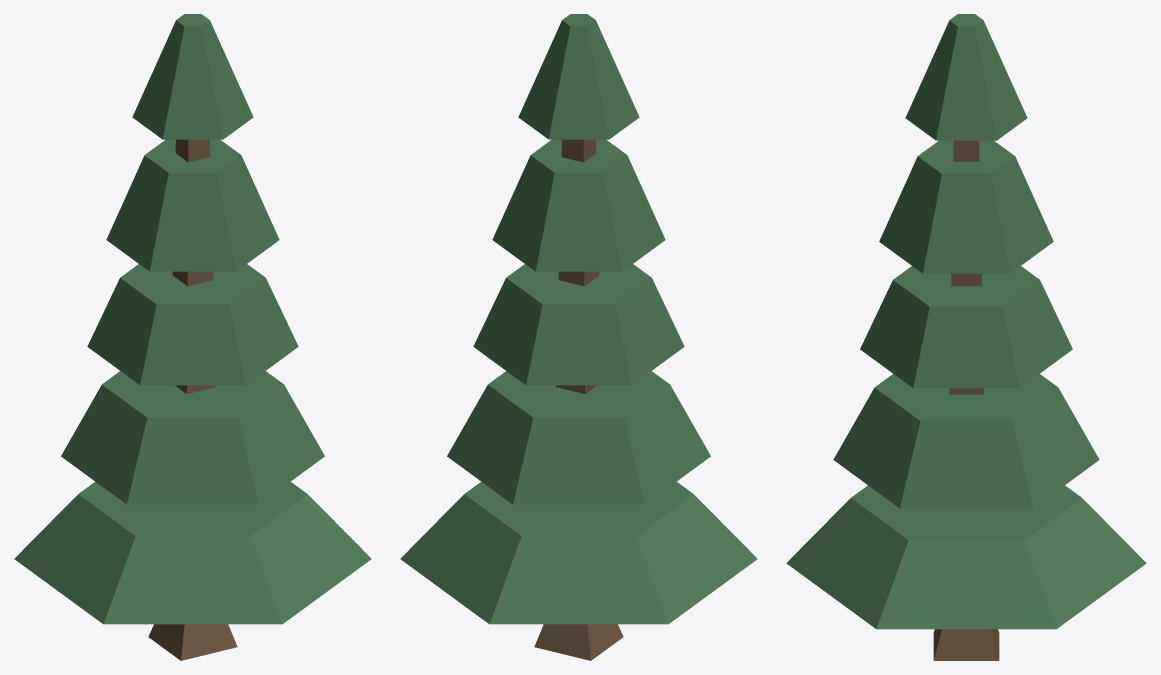
File: tree_pineRoundA.glb
The picture shows the model from 3 angles, left to right: view 1: azimuth 30°, elevation 25°; view 2: azimuth 150°, elevation 25°; view 3: azimuth 270°, elevation 25°; orthographic projection.
Parts seen in each view (by area): view 1: tree_pineRoundA; view 2: tree_pineRoundA; view 3: tree_pineRoundA.
Boxes of the visible parts, x1,y1,x2,y2 form: tree_pineRoundA: (14,14,371,660); tree_pineRoundA: (400,14,757,660); tree_pineRoundA: (786,14,1146,660).
Size of the model in its own units: 2.94 by 6.5 by 3.39.
